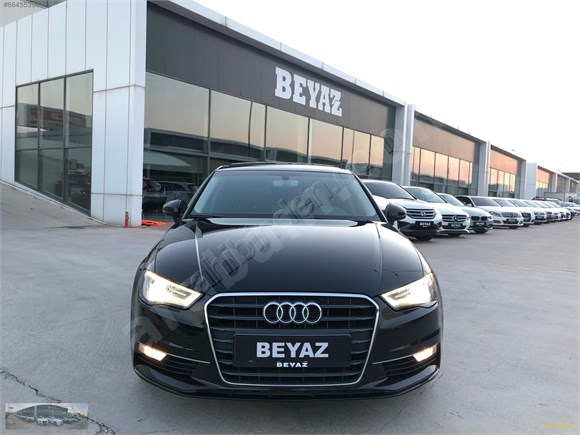audi: (258, 296, 324, 325)
